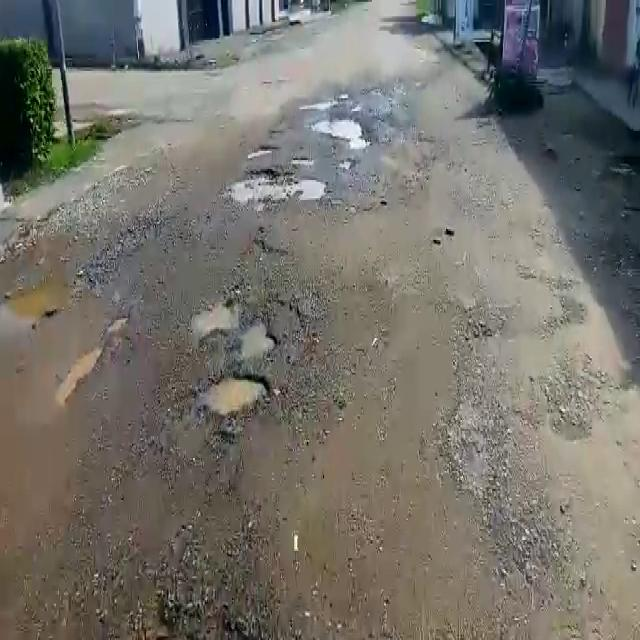Pothole: (191, 292, 292, 361), (225, 165, 331, 204), (205, 370, 269, 418), (314, 112, 376, 144), (302, 99, 342, 116), (249, 142, 278, 156), (291, 152, 318, 166)
